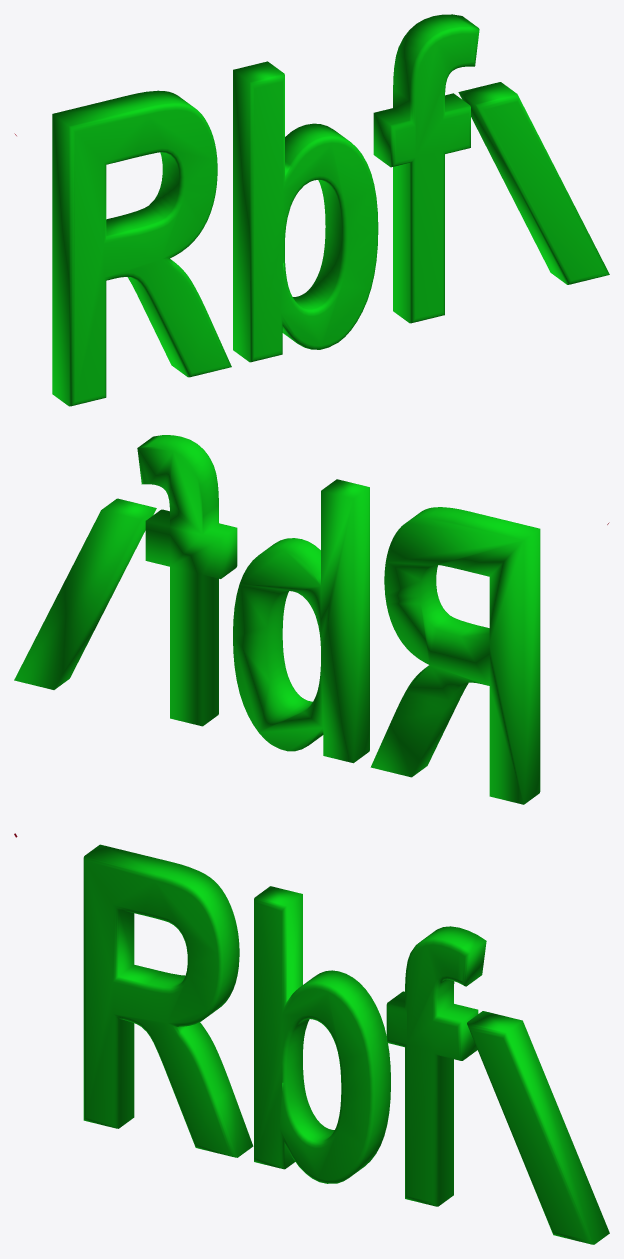
Rendered from RbfxAnim.glb.
3 renders of one model, top to bottom at view 1: azimuth 30°, elevation 25°; view 2: azimuth 150°, elevation 25°; view 3: azimuth 330°, elevation 25°, orthographic. The views are drawn at different scales.
Visible parts, largest first — view 1: Logo.007; view 2: Logo.007; view 3: Logo.007.
Part boxes in pixels (bbox=[...]): Logo.007: bbox=[52, 14, 609, 406]; Logo.007: bbox=[14, 435, 540, 804]; Logo.007: bbox=[83, 844, 609, 1244].
Size of the model in its own units: 1.58 by 0.751 by 0.1232.
